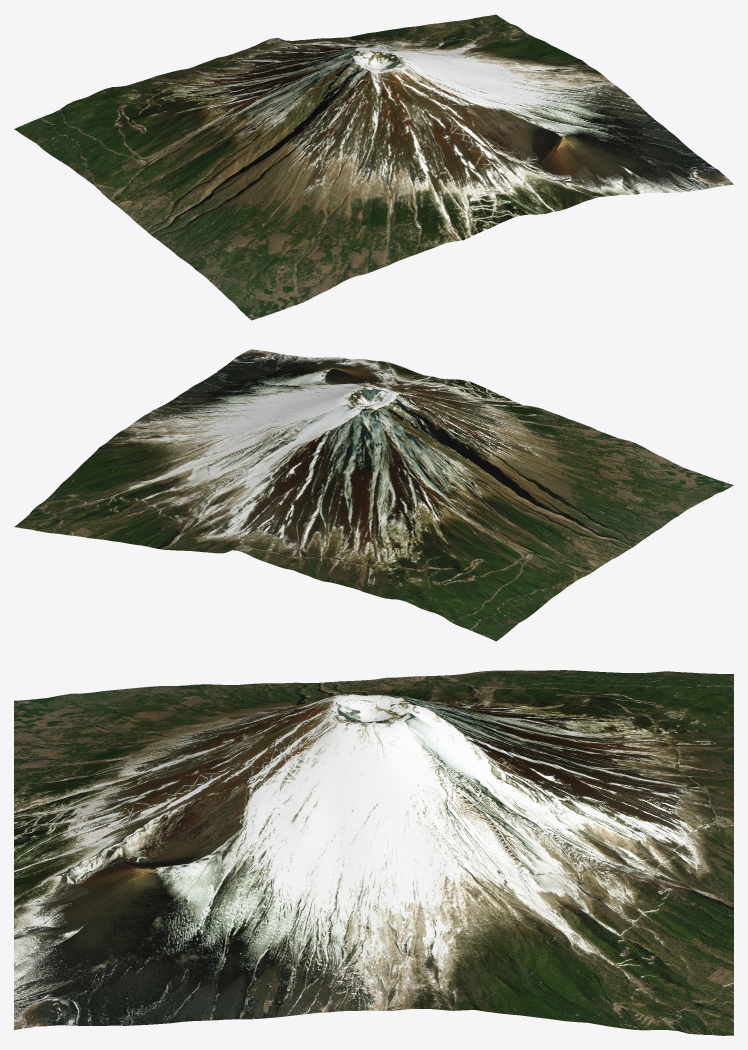
The model's file is mount_fuji_volcano_japan.glb.
The picture shows the model from 3 angles, top to bottom: view 1: azimuth 30°, elevation 25°; view 2: azimuth 150°, elevation 25°; view 3: azimuth 270°, elevation 25°; orthographic projection. The views are drawn at different scales.
Visible parts, largest first — view 1: Object_2; view 2: Object_2; view 3: Object_2.
Boxes of the visible parts, x1,y1,x2,y2 form: Object_2: (14, 14, 733, 320); Object_2: (14, 349, 733, 641); Object_2: (14, 670, 733, 1035).
Size of the model in its own units: 10395 by 2361 by 8867.
1 material, 1 textured.
